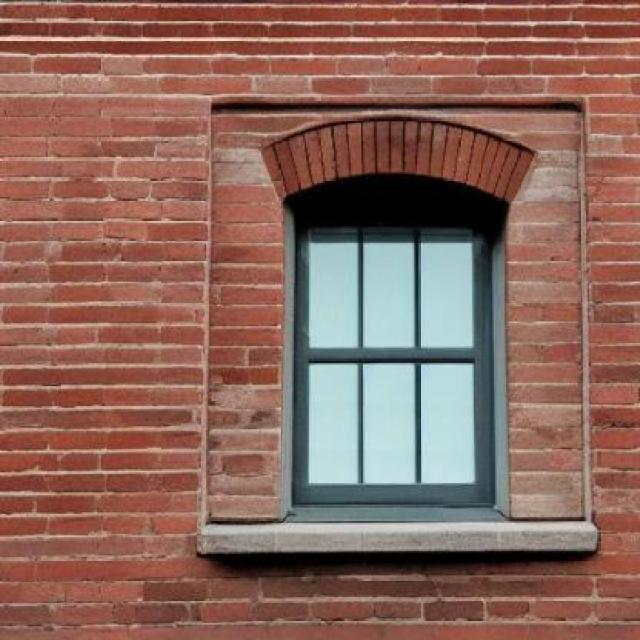window: (284, 192, 498, 505)
